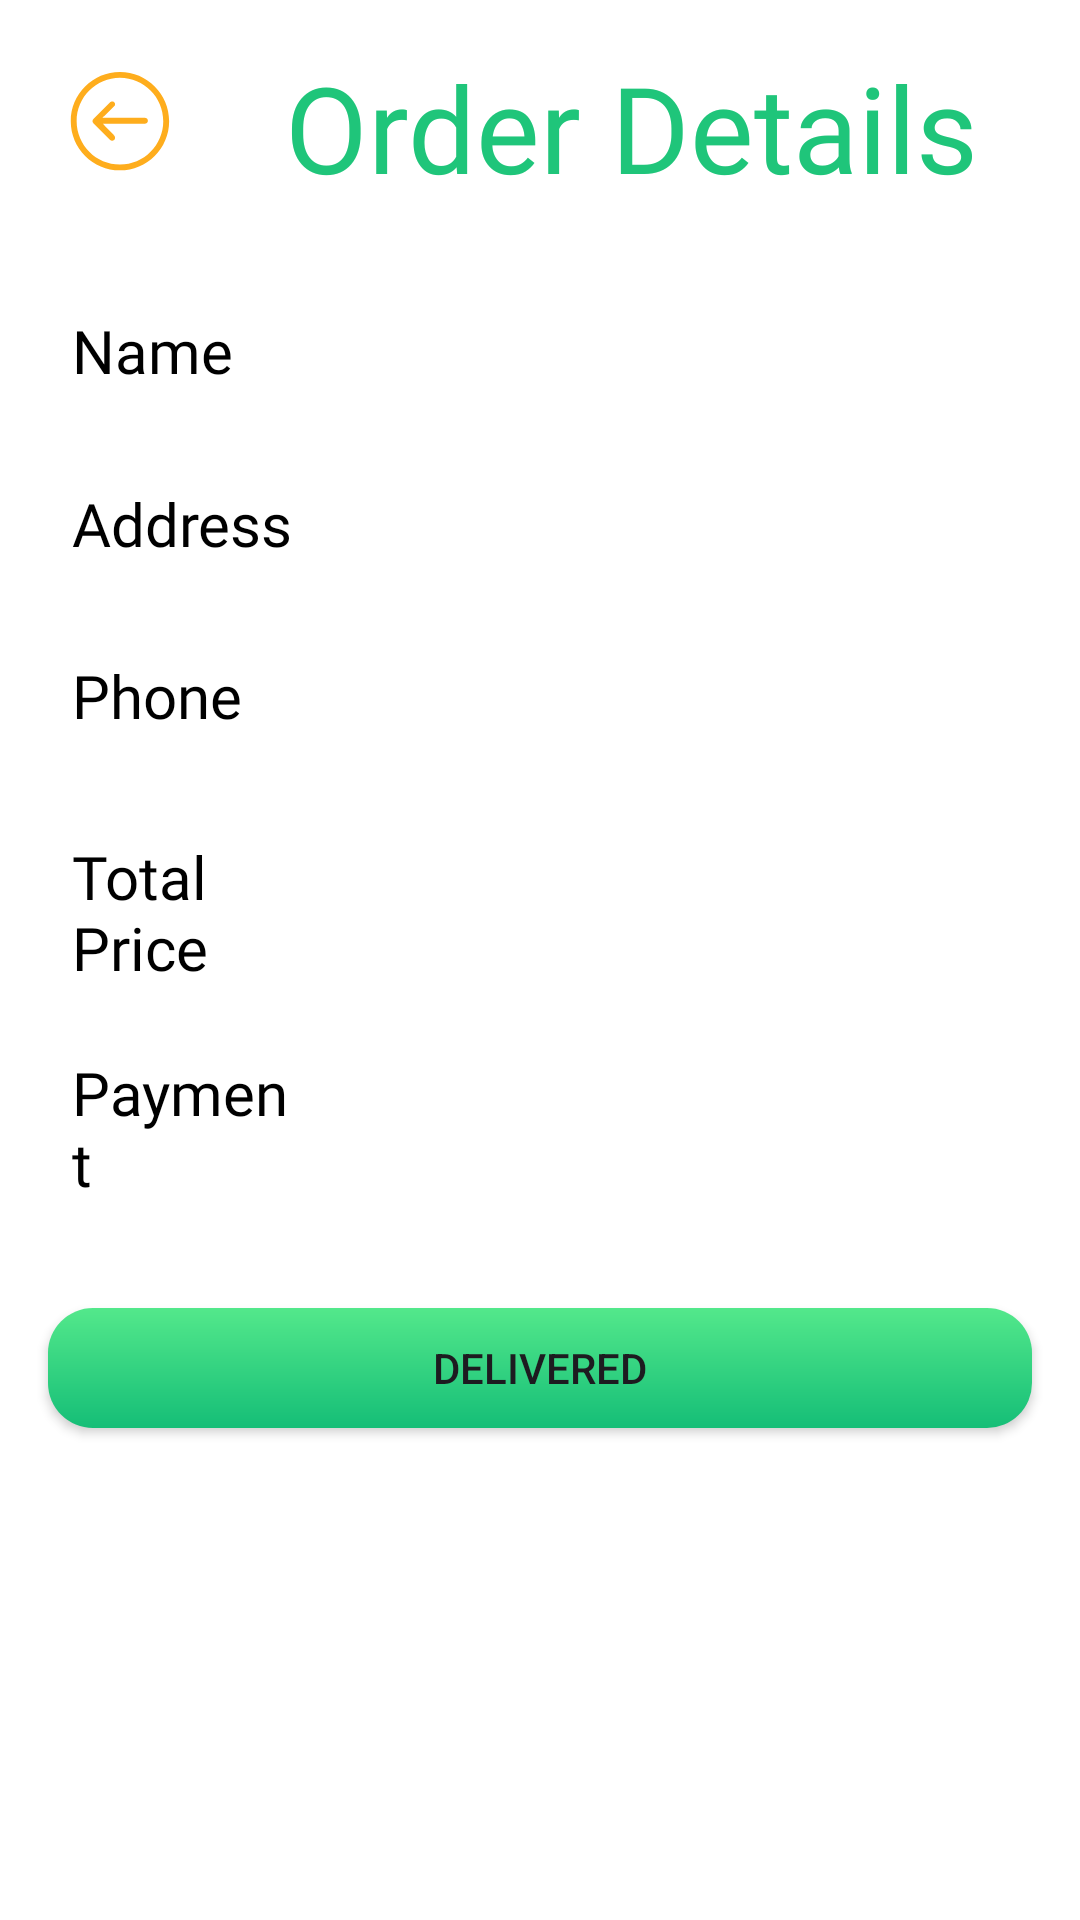

Named icons in this screenshot (1080*1920) and their centers, (x,y):
left arrow: (120,121)
